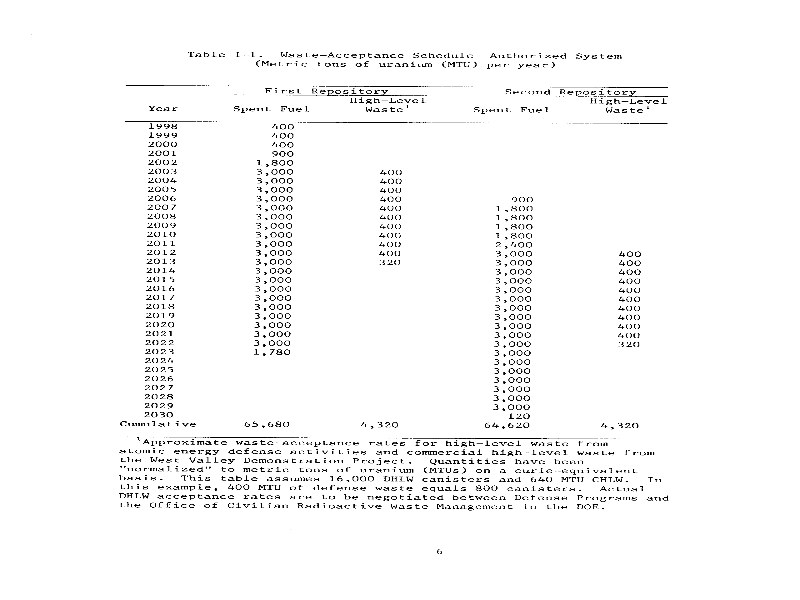table: (120, 85, 673, 440)
